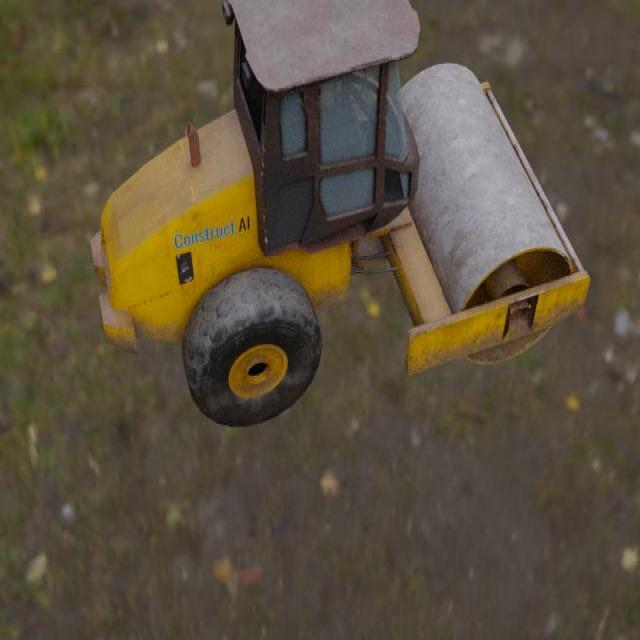Roller: (89, 0, 590, 428)
